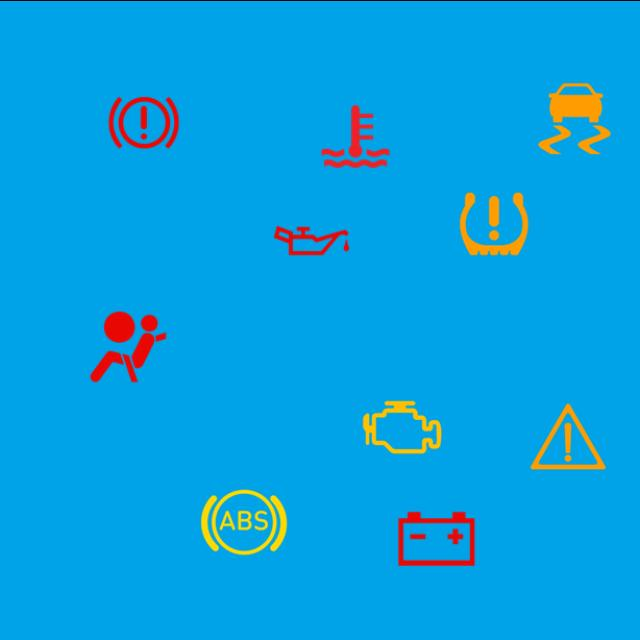Anti Lock Braking System: (197, 474, 291, 568)
Braking System Issue: (97, 75, 191, 169)
Charging System Issue: (389, 491, 484, 585)
Check Engine: (356, 379, 450, 474)
Electronic Stability Problem -ESP-: (528, 71, 622, 165)
Engine Overheating Warning Light: (308, 89, 402, 182)
Low Engine Oil Warning Light: (264, 192, 358, 286)
Low Tire Pressure Warning Light: (447, 176, 541, 270)
Master warning light: (521, 388, 615, 482)
SRS-Airbag: (81, 299, 175, 393)
